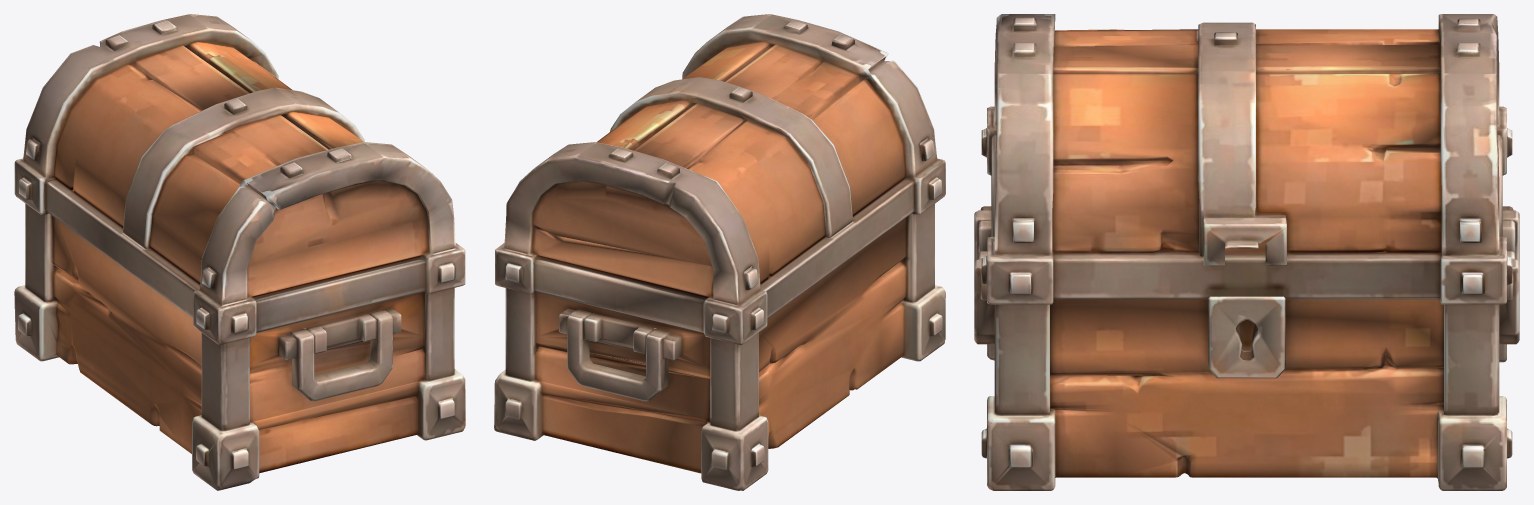
The model's file is chest.glb.
The picture shows the model from 3 angles, left to right: view 1: azimuth 30°, elevation 25°; view 2: azimuth 150°, elevation 25°; view 3: azimuth 270°, elevation 25°; orthographic projection. The views are drawn at different scales.
Parts seen in each view (by area): view 1: tripo_node_803af1aa-d1ed-4baa-ae6f-b99c22151b57; view 2: tripo_node_803af1aa-d1ed-4baa-ae6f-b99c22151b57; view 3: tripo_node_803af1aa-d1ed-4baa-ae6f-b99c22151b57.
Boxes of the visible parts, box(x1,y1,x2,y2) form: tripo_node_803af1aa-d1ed-4baa-ae6f-b99c22151b57: box(14, 14, 465, 490); tripo_node_803af1aa-d1ed-4baa-ae6f-b99c22151b57: box(494, 14, 945, 490); tripo_node_803af1aa-d1ed-4baa-ae6f-b99c22151b57: box(974, 14, 1519, 490).
Size of the model in its own units: 0.7025 by 0.7613 by 1.
1 material, 1 textured.
